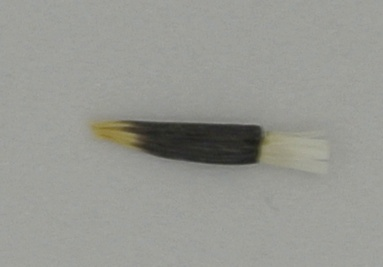เมล็ดดีติดกัน: (86, 115, 331, 179)
